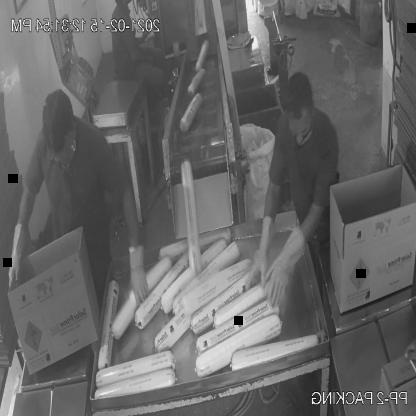glove: (264, 218, 315, 309), (241, 202, 279, 301), (124, 236, 152, 316), (6, 209, 30, 301)
